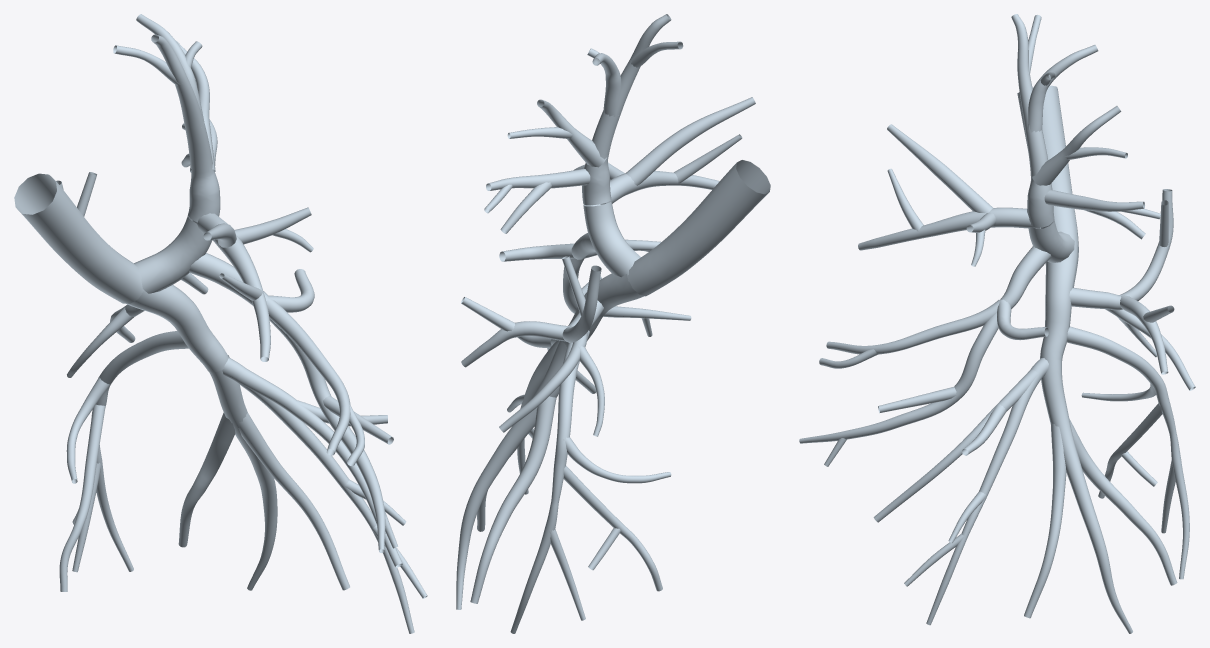
The model's file is visceras-left-main-bronchus.glb.
The picture shows the model from 3 angles, left to right: view 1: azimuth 30°, elevation 25°; view 2: azimuth 150°, elevation 25°; view 3: azimuth 270°, elevation 25°; orthographic projection. The views are drawn at different scales.
Visible parts, largest first — view 1: Left main bronchus, Apicoposterior segmental bronchus of left lung (BI+BII), Medial basal segmental bronchus of left lung (BVII), Lateral basal segmental bronchus of left lung (BIX), Anterior segmental bronchus of left lung (BIII), (Anteromedial basal segmental bronchus of left lung), Superior lingular segmental bronchus of left lung (BIV), Left superior lobar bronchus, Inferior lingular segmental bronchus of left lung (BV), Left inferior lobar bronchus, Anterior basal segmental bronchus of left lung (BVIII), Posterior basal segmental bronchus of left lung (BX) (+1 smaller); view 2: Apicoposterior segmental bronchus of left lung (BI+BII), Left main bronchus, Medial basal segmental bronchus of left lung (BVII), Superior segmental bronchus of left lung (BVI), Anterior segmental bronchus of left lung (BIII), Lateral basal segmental bronchus of left lung (BIX), Posterior basal segmental bronchus of left lung (BX), Left superior lobar bronchus, Inferior lingular segmental bronchus of left lung (BV), Superior lingular segmental bronchus of left lung (BIV), Left inferior lobar bronchus, (Anteromedial basal segmental bronchus of left lung) (+1 smaller); view 3: Apicoposterior segmental bronchus of left lung (BI+BII), Lateral basal segmental bronchus of left lung (BIX), Medial basal segmental bronchus of left lung (BVII), Anterior segmental bronchus of left lung (BIII), Superior segmental bronchus of left lung (BVI), Inferior lingular segmental bronchus of left lung (BV), (Anteromedial basal segmental bronchus of left lung), Superior lingular segmental bronchus of left lung (BIV), Left inferior lobar bronchus, Anterior basal segmental bronchus of left lung (BVIII), Left main bronchus, Left superior lobar bronchus (+1 smaller).
Part boxes in pixels (box(x1,y1,x2,y2)): Left main bronchus: box(14, 173, 144, 303); Apicoposterior segmental bronchus of left lung (BI+BII): box(113, 14, 220, 222); Medial basal segmental bronchus of left lung (BVII): box(59, 331, 188, 591); Lateral basal segmental bronchus of left lung (BIX): box(209, 355, 349, 590); Anterior segmental bronchus of left lung (BIII): box(192, 207, 313, 361); (Anteromedial basal segmental bronchus of left lung): box(222, 357, 427, 633); Superior lingular segmental bronchus of left lung (BIV): box(266, 269, 364, 466); Left superior lobar bronchus: box(134, 216, 269, 305); Inferior lingular segmental bronchus of left lung (BV): box(269, 318, 397, 552); Left inferior lobar bronchus: box(126, 285, 228, 372); Anterior basal segmental bronchus of left lung (BVIII): box(238, 368, 402, 567); Posterior basal segmental bronchus of left lung (BX): box(178, 412, 235, 547); Apicoposterior segmental bronchus of left lung (BI+BII): box(484, 14, 683, 233); Left main bronchus: box(627, 160, 770, 296); Medial basal segmental bronchus of left lung (BVII): box(510, 330, 671, 633); Superior segmental bronchus of left lung (BVI): box(461, 256, 604, 436); Anterior segmental bronchus of left lung (BIII): box(574, 97, 755, 206); Lateral basal segmental bronchus of left lung (BIX): box(456, 340, 566, 609); Posterior basal segmental bronchus of left lung (BX): box(470, 396, 556, 603); Left superior lobar bronchus: box(571, 200, 640, 277); Inferior lingular segmental bronchus of left lung (BV): box(563, 258, 691, 336); Superior lingular segmental bronchus of left lung (BIV): box(499, 239, 661, 261); Left inferior lobar bronchus: box(563, 273, 644, 346); (Anteromedial basal segmental bronchus of left lung): box(507, 340, 559, 494); Apicoposterior segmental bronchus of left lung (BI+BII): box(1011, 14, 1160, 239); Lateral basal segmental bronchus of left lung (BIX): box(1024, 359, 1132, 633); Medial basal segmental bronchus of left lung (BVII): box(1067, 326, 1189, 579); Anterior segmental bronchus of left lung (BIII): box(858, 124, 1040, 266); Superior segmental bronchus of left lung (BVI): box(1069, 189, 1195, 390); Inferior lingular segmental bronchus of left lung (BV): box(799, 313, 998, 466); (Anteromedial basal segmental bronchus of left lung): box(904, 358, 1048, 625); Superior lingular segmental bronchus of left lung (BIV): box(819, 299, 1048, 368); Left inferior lobar bronchus: box(1040, 242, 1078, 360); Anterior basal segmental bronchus of left lung (BVIII): box(873, 369, 1038, 522); Left main bronchus: box(1017, 85, 1078, 245); Left superior lobar bronchus: box(1000, 218, 1074, 308).
Size of the model in its own units: 0.1356 by 0.2479 by 0.1613.
